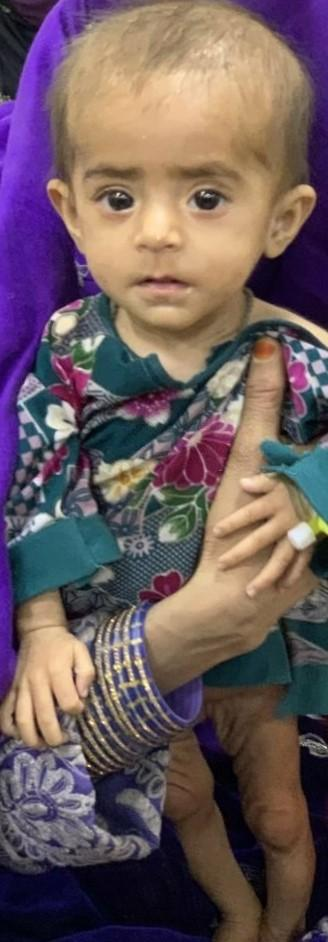Stunting: (20, 0, 328, 380)
